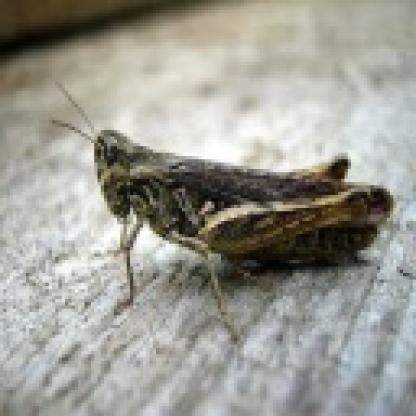grasshopper: (57, 96, 395, 313)
